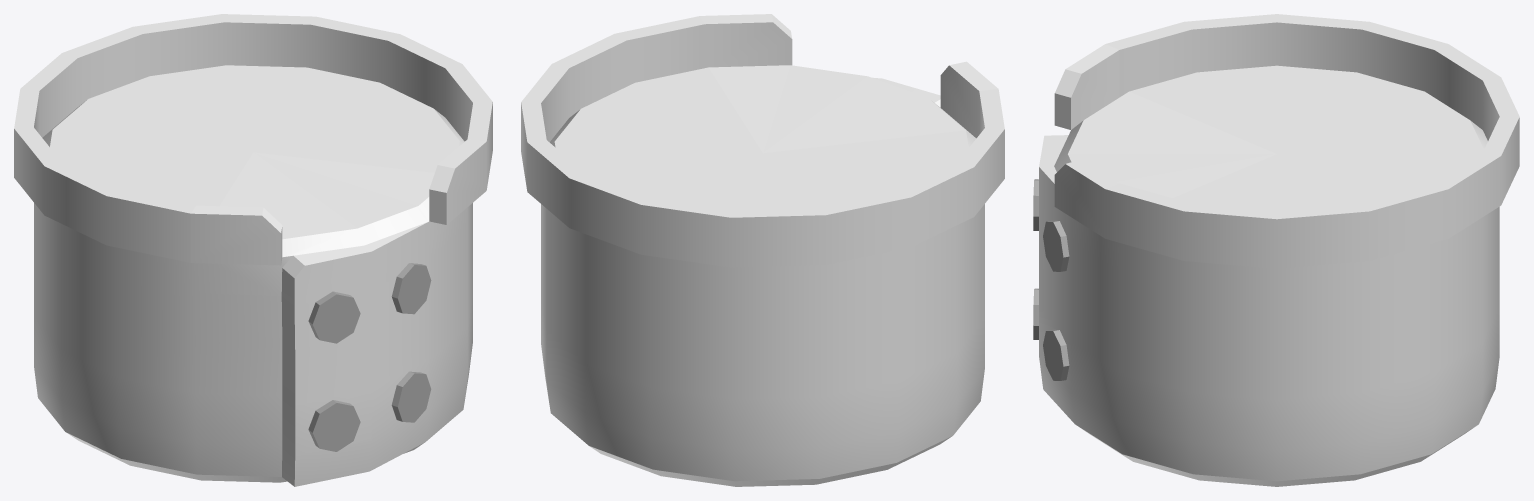
File: Body_Cooking_Chef_Dress_01.fbx
3 views of the same model, side by side, from view 1: azimuth 30°, elevation 25°; view 2: azimuth 150°, elevation 25°; view 3: azimuth 270°, elevation 25° (orthographic).
Visible parts, largest first — view 1: Body_Cooking_Chef_Dress_01; view 2: Body_Cooking_Chef_Dress_01; view 3: Body_Cooking_Chef_Dress_01.
Boxes of the visible parts, left/top/right/bottom form: Body_Cooking_Chef_Dress_01: left=14, top=14, right=492, bottom=486; Body_Cooking_Chef_Dress_01: left=521, top=14, right=1004, bottom=486; Body_Cooking_Chef_Dress_01: left=1033, top=14, right=1519, bottom=486.
Bounding box in the file's own units: 109 × 70.41 × 109.
